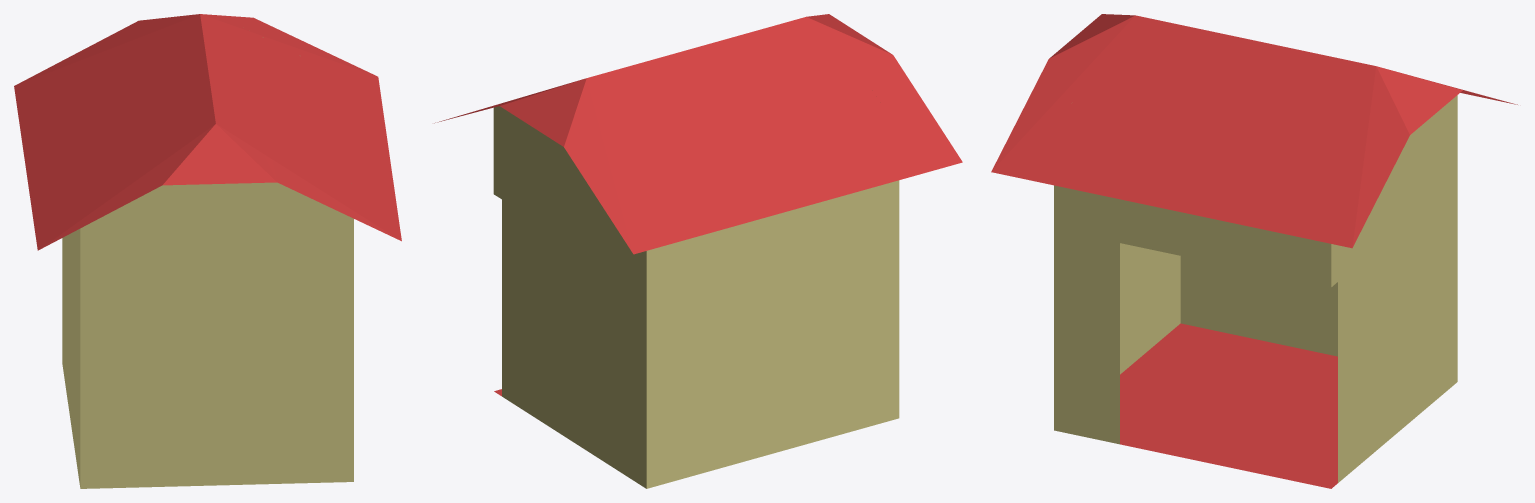
The picture shows the model from 3 angles, left to right: view 1: azimuth 30°, elevation 25°; view 2: azimuth 150°, elevation 25°; view 3: azimuth 270°, elevation 25°; orthographic projection. The views are drawn at different scales.
Visible parts, largest first — view 1: group_5, group_3, group_4; view 2: group_5, group_3, group_4; view 3: group_5, group_3, group_4, group_6.
Boxes of the visible parts, x1,y1,x2,y2 form: group_5: [62, 37, 353, 488]; group_3: [14, 14, 400, 248]; group_4: [14, 16, 401, 250]; group_5: [493, 106, 899, 488]; group_3: [503, 14, 914, 253]; group_4: [434, 32, 962, 254]; group_5: [1054, 95, 1457, 482]; group_3: [1004, 14, 1517, 248]; group_4: [991, 55, 1511, 247]; group_6: [1120, 323, 1337, 488].
Size of the model in its own units: 16.52 by 16.9 by 12.86.
